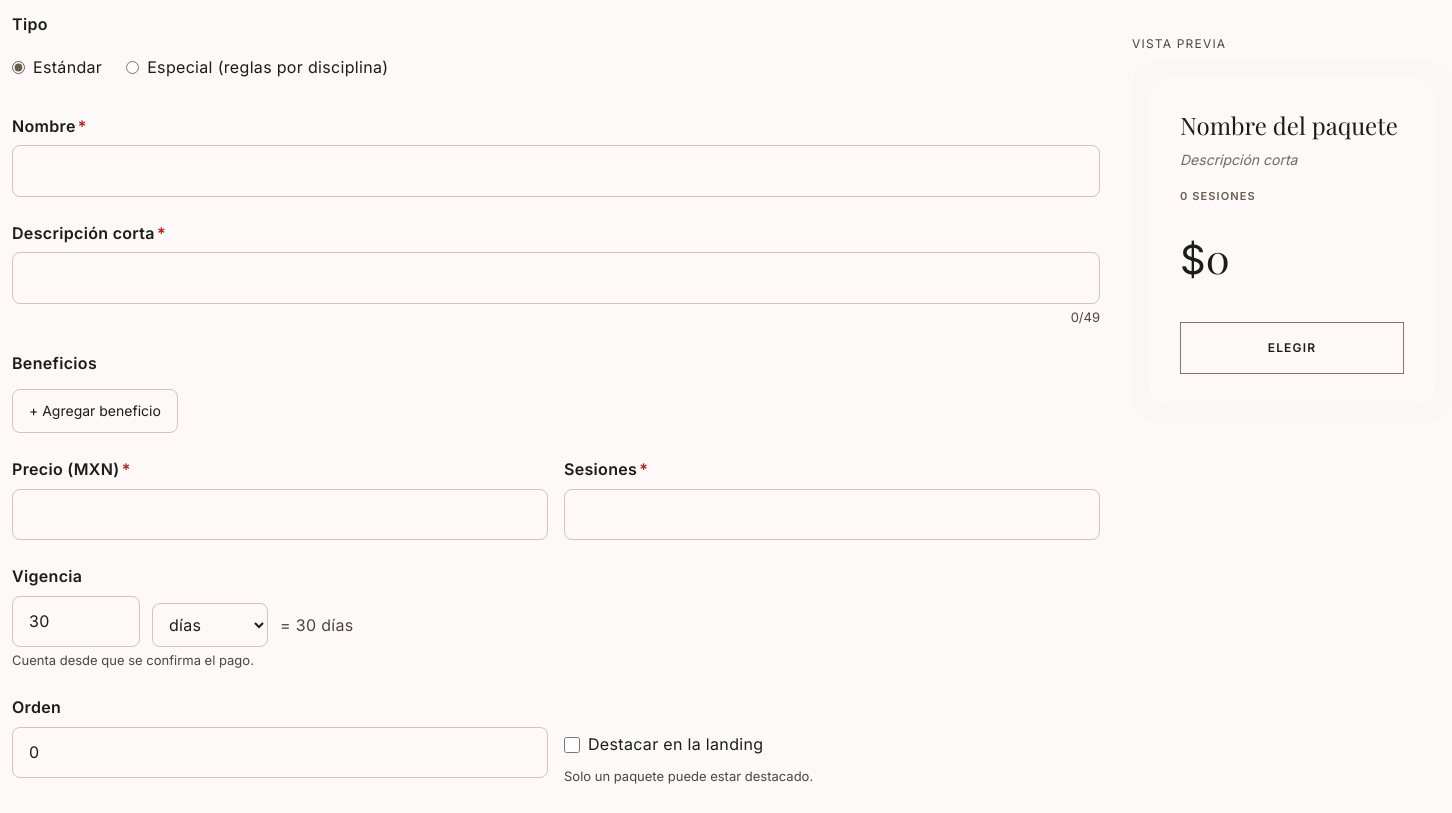
PackageForm — límites de la tarjeta › vigencia en semanas muestra el total en días
Replace the text in the number field labelled "Vigencia" with "2" at [76, 622], box [12,596,140,647]
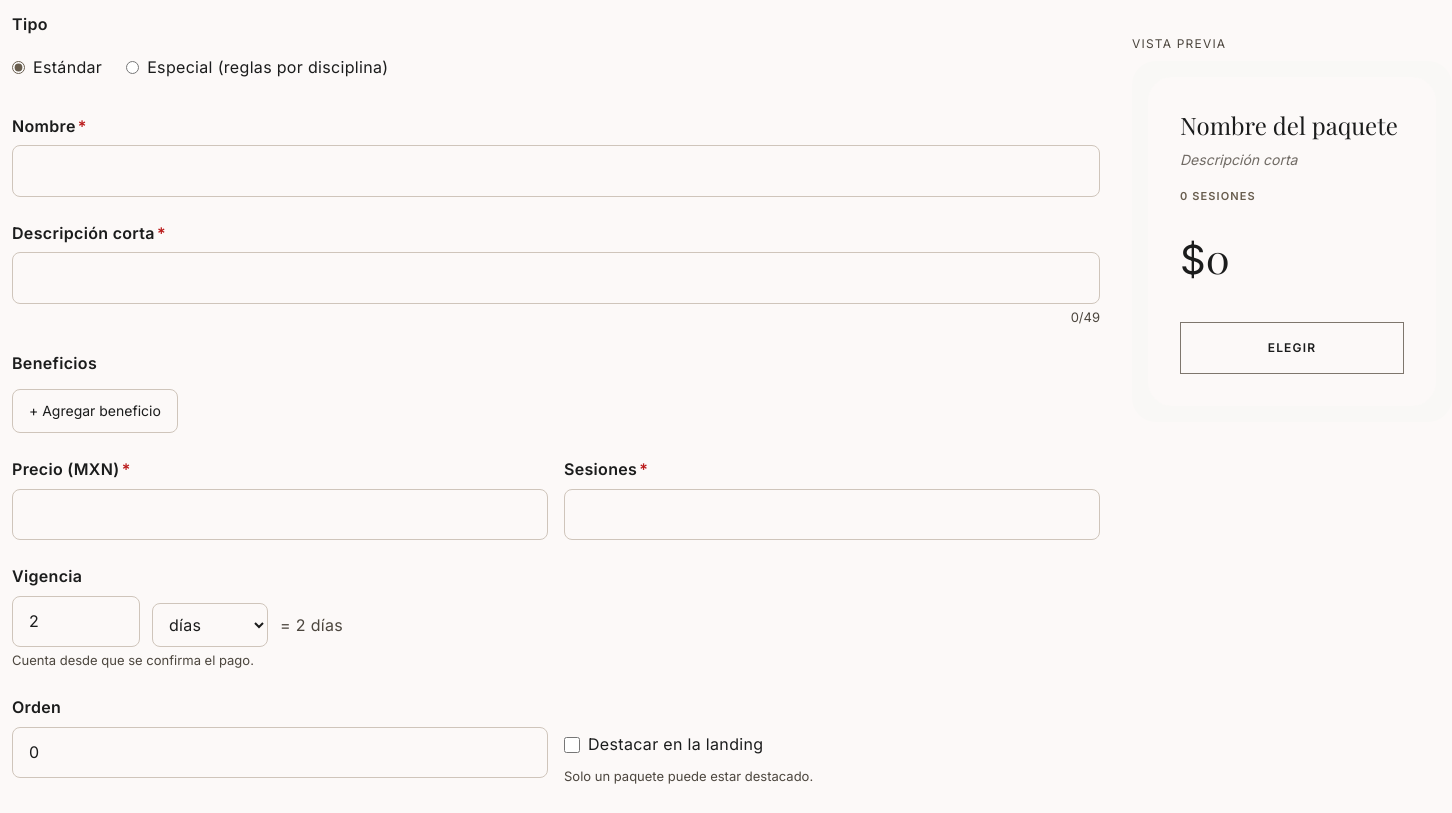
Select "semanas" in the dropdown named "Unidad de vigencia" at [210, 625], box [152,603,268,647]
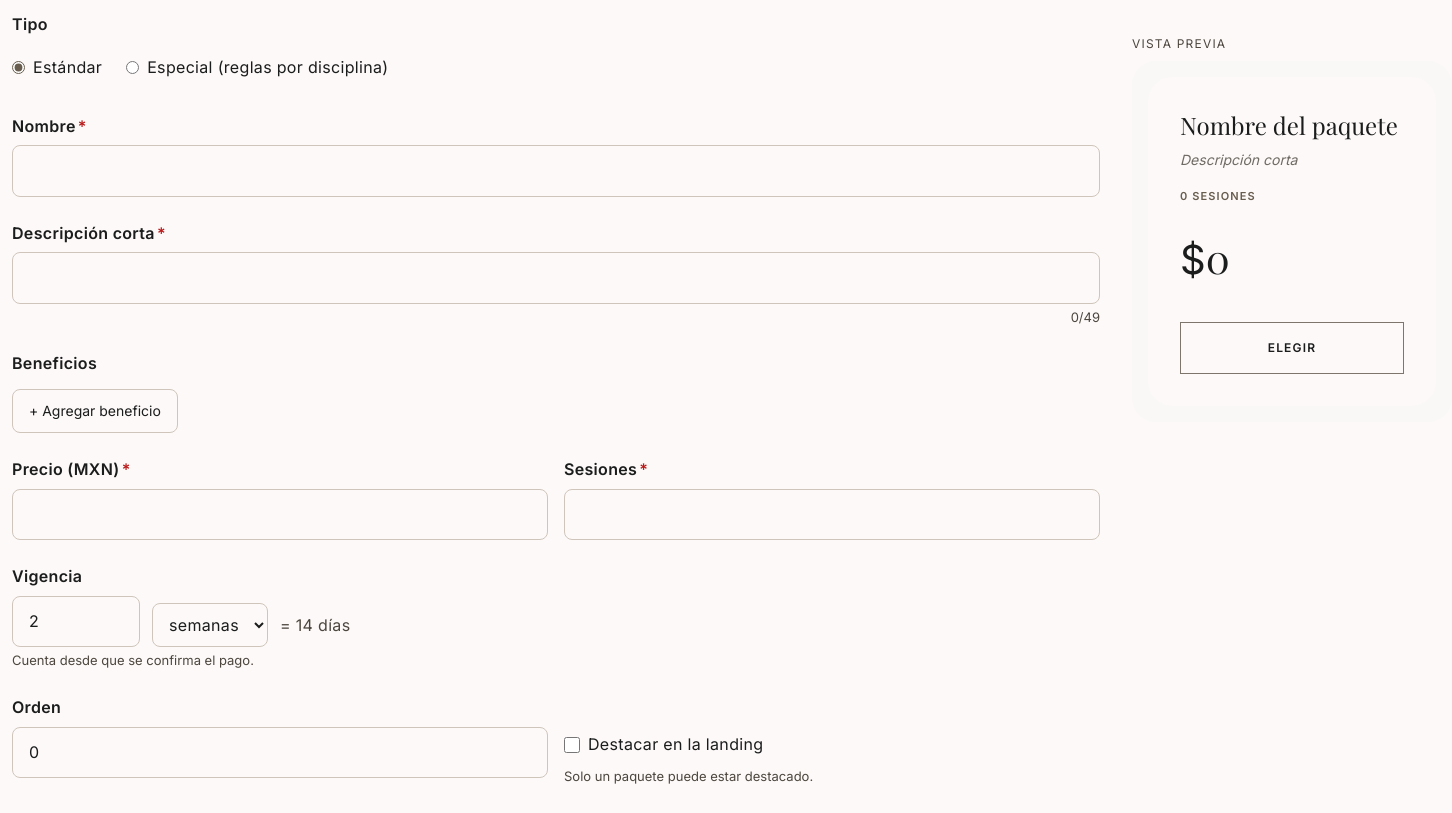
Expected: the text "= 14 días" is shown, [280,615,350,635]
